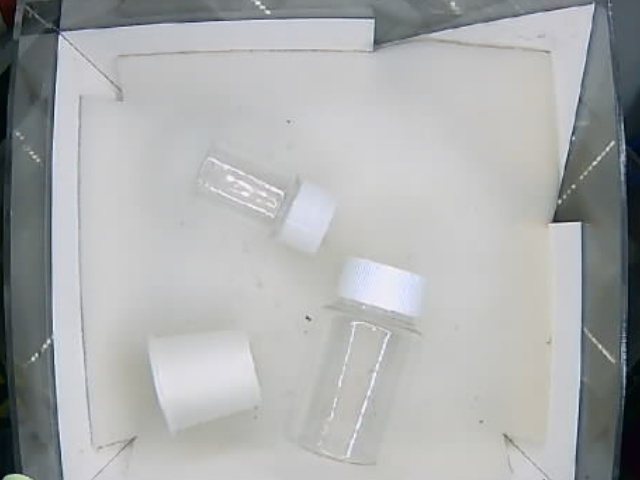Bottle: (287, 250, 428, 464), (184, 138, 337, 253)
Cup: (139, 331, 267, 432)
